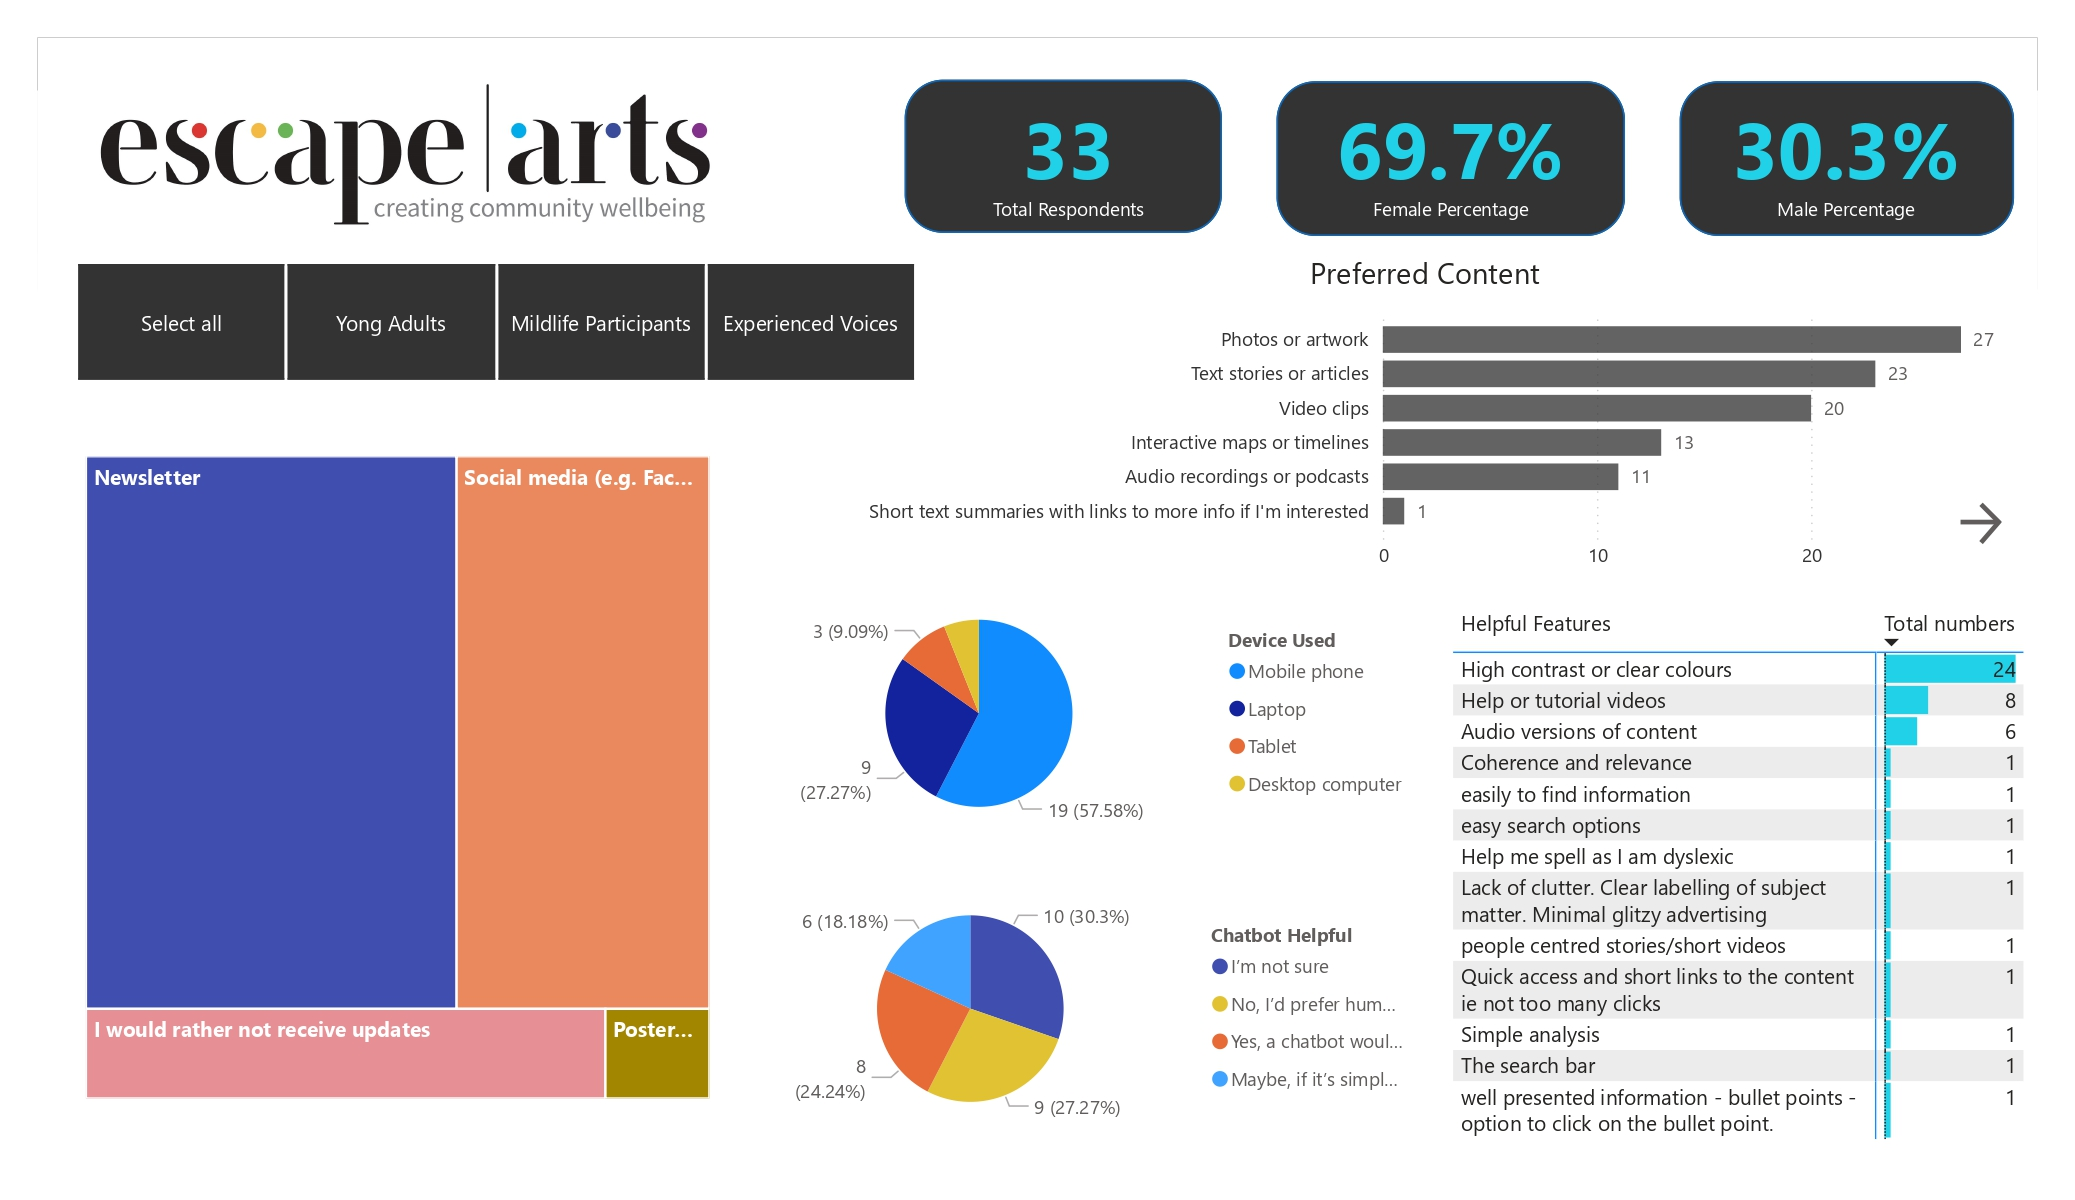

Layout of this report page (visuals, bound fields, positions):
{"tool":"powerbi","page":{"name":"Website Features","canvas":[1280,720],"ordinal":0},"visuals":[{"type":"shape","box":[554.8,27,203.4,98.2],"z":0},{"type":"card","fields":{"Values":["People's Archive- community survey (Responses).Total respondents"]},"box":[573.3,25.6,173.6,102.4],"z":1000},{"type":"textbox","box":[122.3,28.5,354.2,52.6],"z":2000},{"type":"image","box":[25.6,7.1,422.5,140.8],"z":3000},{"type":"shape","box":[793.1,28.5,223.4,98.2],"z":4000},{"type":"card","fields":{"Values":["Measures Table.Female %"]},"box":[809.5,25.6,190.6,102.4],"z":5000},{"type":"shape","box":[1051.4,28.5,213.4,98.2],"z":6000},{"type":"card","fields":{"Values":["Measures Table.Male %"]},"box":[1065.6,25.6,183.5,102.4],"z":7000},{"type":"clusteredBarChart","title":"Preferred Content","fields":{"Category":["Preferred Content Answers.Preferred Content"],"Y":["Preferred Content Answers.Number of responses"]},"box":[510.7,138,754,212],"z":8000},{"type":"slicer","fields":{"Values":["People Archive- community survey (Responses).Age Category"]},"box":[0,138,584.7,88.2],"z":9000},{"type":"pieChart","fields":{"Y":["People Archive- community survey (Responses).Total Respondents"],"Category":["People Archive- community survey (Responses).Chatbot Helpful"]},"box":[438.2,539.2,449.6,165],"z":10000},{"type":"pivotTable","fields":{"Rows":["Helpful Features Answers.Helpful Features"],"Values":["Helpful Features Answers.Total numbers"]},"box":[900.5,359.9,379.9,357.1],"z":11000},{"type":"treemap","fields":{"Group":["Update Preferences Answers.Preferred Update Methods"],"Values":["Update Preferences Answers.Number of people"]},"box":[25.6,263.2,409.7,421.1],"z":12000},{"type":"pieChart","fields":{"Y":["People Archive- community survey (Responses).Total Respondents"],"Category":["People Archive- community survey (Responses).Device Used"]},"box":[438.2,350,449.6,165],"z":13000},{"type":"actionButton","box":[1224.9,293.1,55.5,35.6],"z":14000}]}

Visuals, with their boxes in screenshot pixels (x1, y1, x2, y2):
shape: [left=904, top=80, right=1222, bottom=233]
card - People's Archive- community survey (Responses).Total respondents: [left=933, top=78, right=1205, bottom=238]
textbox: [left=229, top=82, right=782, bottom=164]
image: [left=78, top=49, right=738, bottom=269]
shape: [left=1277, top=82, right=1626, bottom=235]
card - Measures Table.Female %: [left=1302, top=78, right=1600, bottom=238]
shape: [left=1680, top=82, right=2014, bottom=235]
card - Measures Table.Male %: [left=1702, top=78, right=1989, bottom=238]
"Preferred Content" clusteredBarChart: [left=835, top=253, right=2014, bottom=584]
slicer - People Archive- community survey (Responses).Age Category: [left=38, top=253, right=951, bottom=391]
pieChart - People Archive- community survey (Responses).Total Respondents x People Archive- community survey (Responses).Chatbot Helpful: [left=722, top=880, right=1425, bottom=1138]
pivotTable - Helpful Features Answers.Helpful Features x Helpful Features Answers.Total numbers: [left=1445, top=600, right=2038, bottom=1158]
treemap - Update Preferences Answers.Preferred Update Methods x Update Preferences Answers.Number of people: [left=78, top=449, right=718, bottom=1107]
pieChart - People Archive- community survey (Responses).Total Respondents x People Archive- community survey (Responses).Device Used: [left=722, top=584, right=1425, bottom=842]
actionButton: [left=1951, top=495, right=2038, bottom=551]
